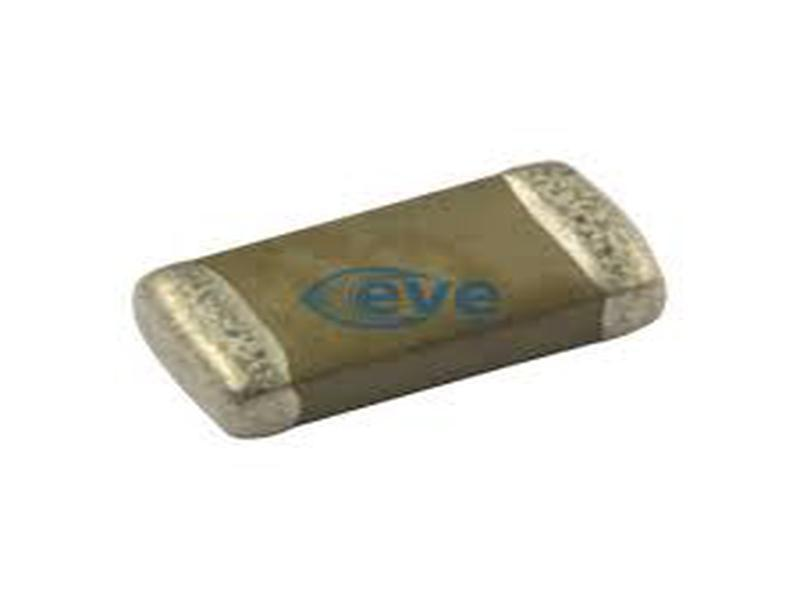SMD capacitor: (124, 151, 698, 435)
